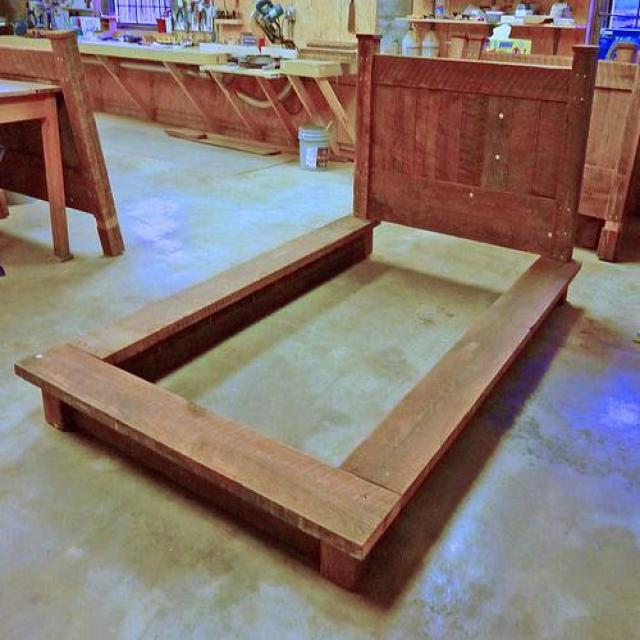bed: (15, 30, 601, 586)
